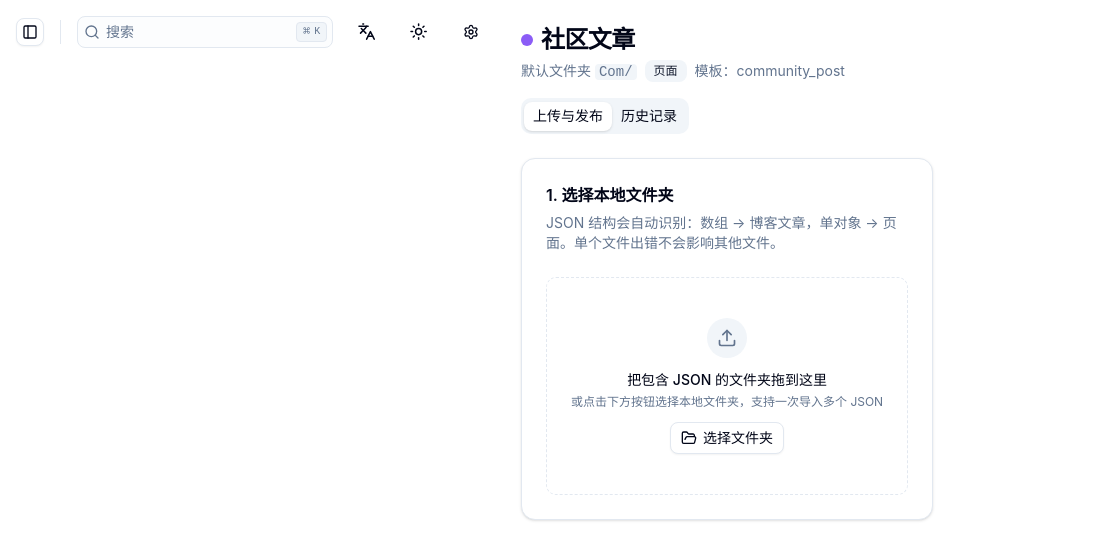
Test: 栏目页语言切换 › 中文：中文文案 + 配置里的中文栏目名
expect the heading "社区文章" is shown: met, box x1=521 y1=25 x2=635 y2=54
expect the tab "上传与发布" is shown: met, box x1=524 y1=102 x2=612 y2=130
Note: 历史记录在第二个页签里，要点开才渲染
Click the tab "历史记录". click: click(649, 116)
box: x1=612 y1=102 x2=686 y2=130
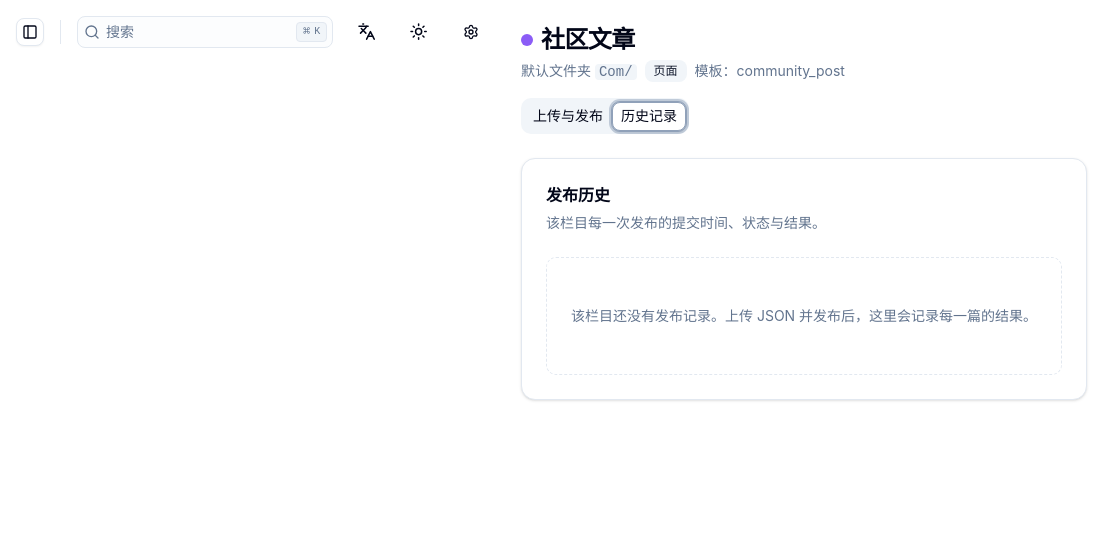
expect the text "发布历史" is shown: met, box x1=546 y1=185 x2=610 y2=205
expect the text "该栏目还没有发布记录。上传 JSON 并发布后，这里会记录每一篇的结果。" is shown: met, box x1=571 y1=306 x2=1037 y2=326
